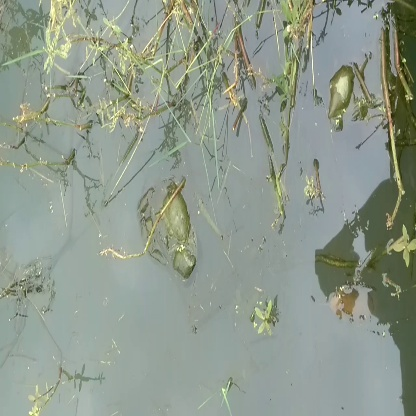plastic-bag: (131, 175, 207, 281)
